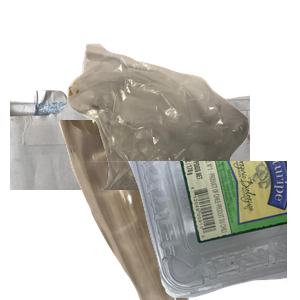glass: (56, 120, 241, 300)
paper: (10, 84, 250, 264)
plastic: (60, 161, 300, 300)
trash: (65, 41, 300, 221)
